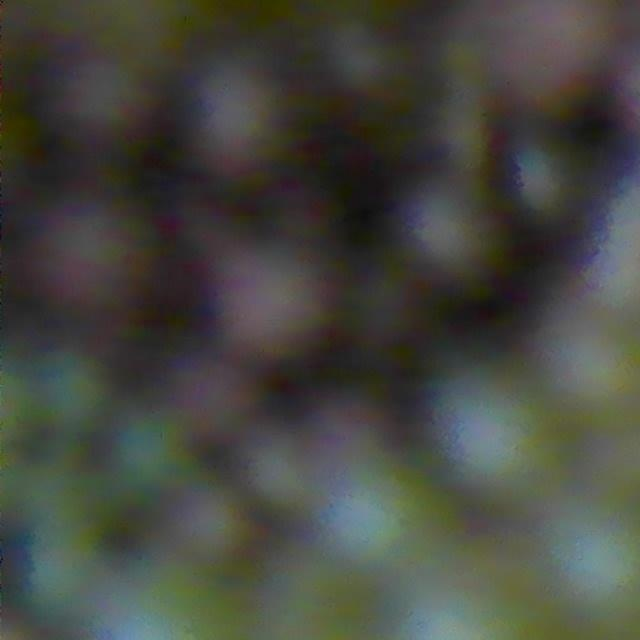SeaGrape: (24, 188, 147, 325), (430, 374, 549, 493), (319, 463, 430, 571), (219, 248, 328, 354), (185, 64, 286, 172), (52, 55, 153, 163), (398, 180, 499, 282), (545, 516, 640, 621)
